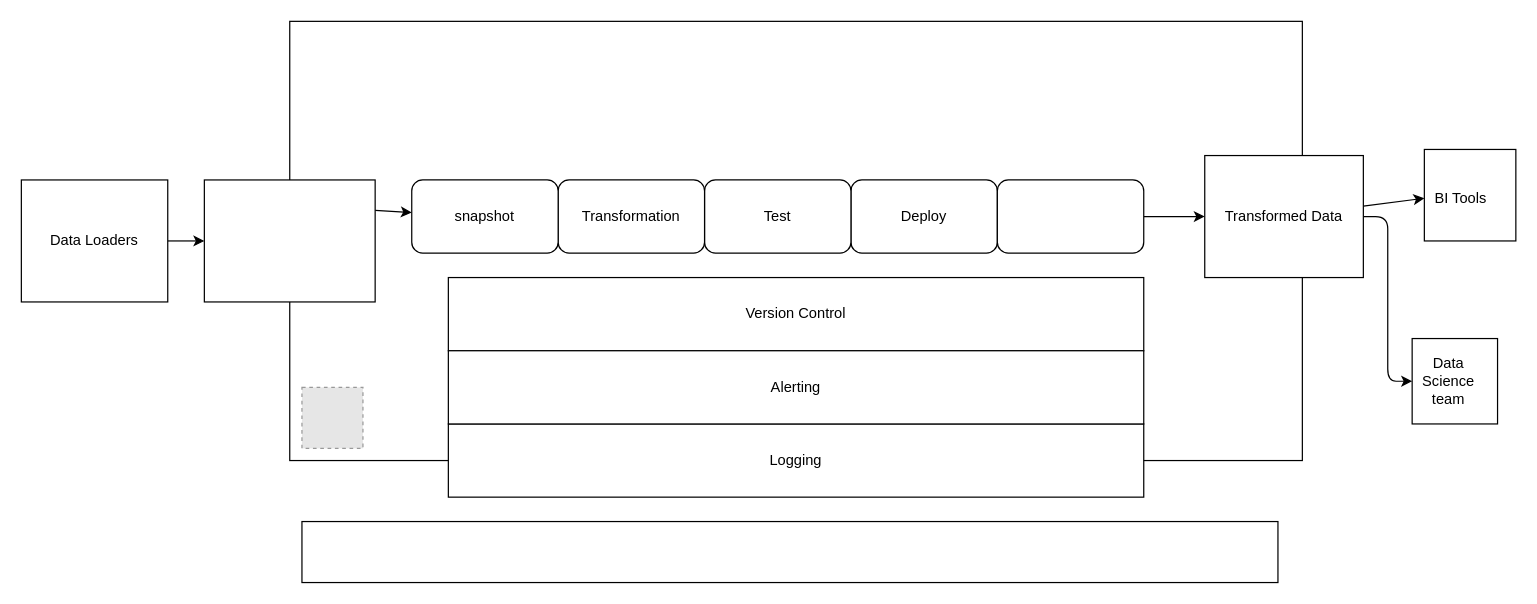
This 1537x604 diagram has some shape labels left out. Grey dashed boxes stand in for pictures. The shapes that lost their labels are listed below. From the top down, each one's centre as x and y in pixels, then its label:
At (1070,216): "Document".
At (289,240): "Raw Data".
At (789,551): "Data Warehouse".
